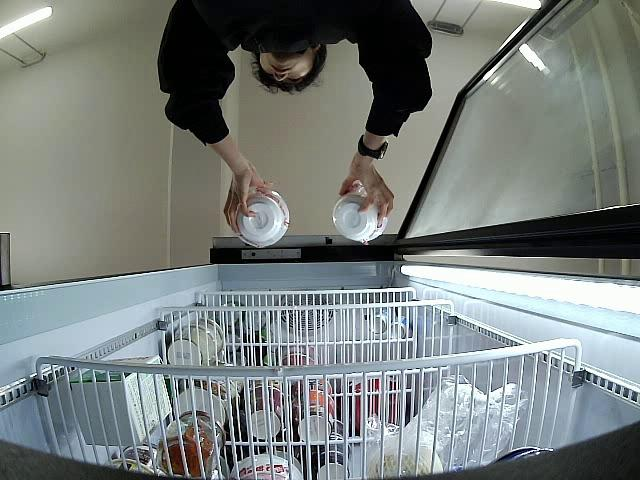00_hand: (337, 157, 395, 229), (223, 165, 273, 232)
09_yukGaeJang: (235, 191, 291, 248), (334, 195, 389, 243)
